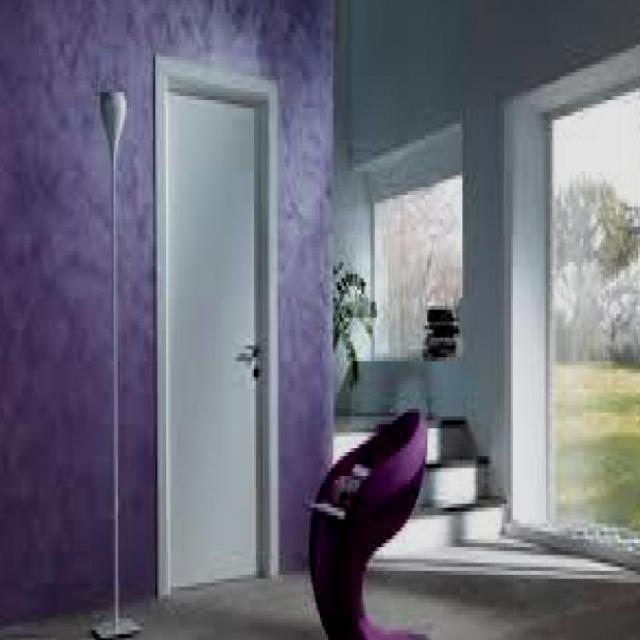door: (157, 71, 277, 593)
